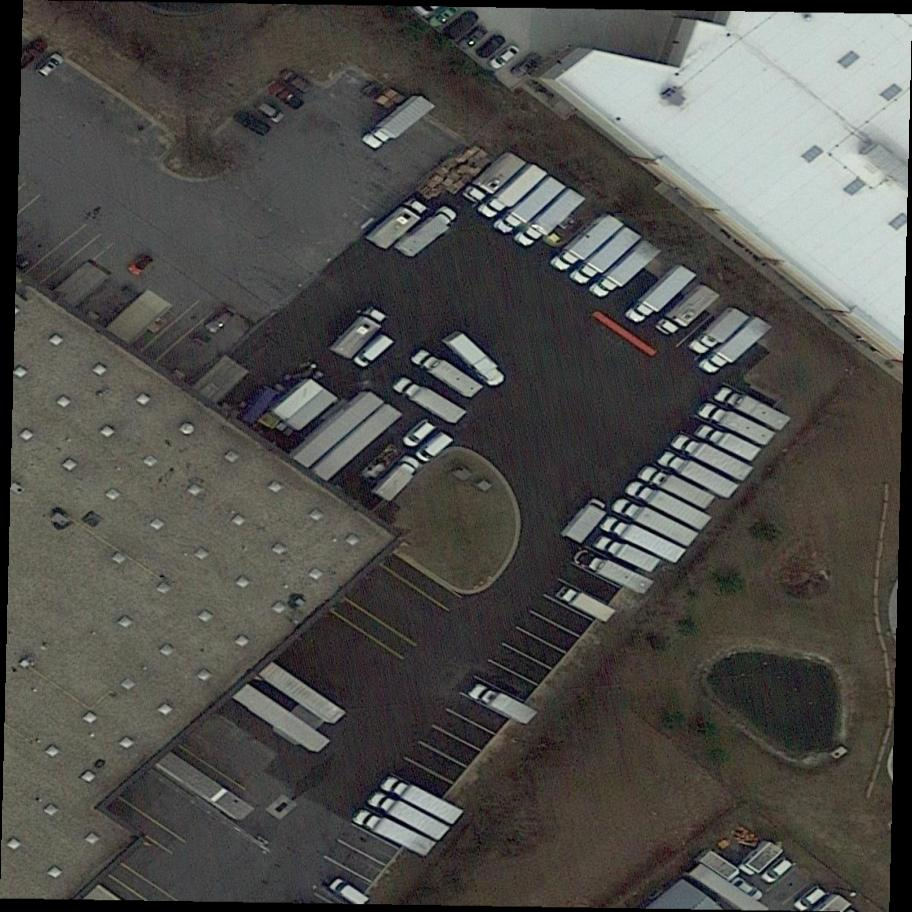large-vehicle: (355, 86, 438, 158), (698, 311, 774, 384), (623, 259, 699, 331), (568, 223, 643, 290), (590, 237, 662, 306), (551, 210, 624, 278), (623, 479, 713, 533), (352, 804, 437, 860), (495, 173, 567, 239), (379, 774, 465, 828), (515, 186, 585, 252), (669, 432, 756, 485), (612, 496, 700, 548), (367, 789, 450, 843), (442, 326, 508, 393), (476, 161, 547, 223), (657, 449, 740, 502), (601, 515, 687, 565), (390, 373, 467, 428), (656, 280, 722, 344), (410, 346, 484, 402), (365, 194, 431, 256), (463, 147, 525, 209), (330, 303, 391, 366), (395, 204, 460, 262), (697, 401, 776, 448), (639, 462, 716, 510), (714, 386, 792, 433), (689, 303, 749, 361), (469, 681, 539, 728), (560, 492, 611, 550), (372, 453, 425, 508), (694, 423, 763, 464), (594, 533, 660, 574), (735, 832, 786, 884), (587, 556, 655, 595), (556, 582, 617, 625)
small-vehicle: (413, 427, 457, 470), (351, 331, 394, 373), (398, 412, 439, 454), (441, 4, 483, 45), (277, 63, 318, 98), (233, 107, 274, 140), (760, 852, 796, 888), (202, 302, 237, 339), (267, 78, 305, 112), (790, 880, 829, 912), (456, 21, 492, 55), (251, 96, 289, 128), (33, 49, 67, 82), (487, 41, 522, 73), (728, 875, 765, 905), (510, 49, 544, 81), (477, 30, 509, 63)
